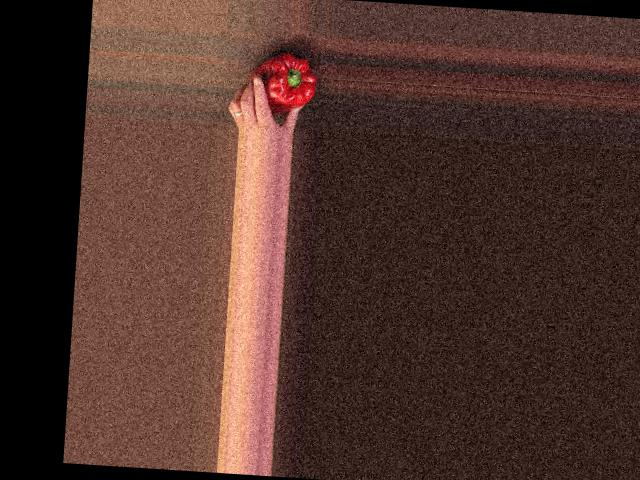bell_pepper: (253, 50, 319, 113)
